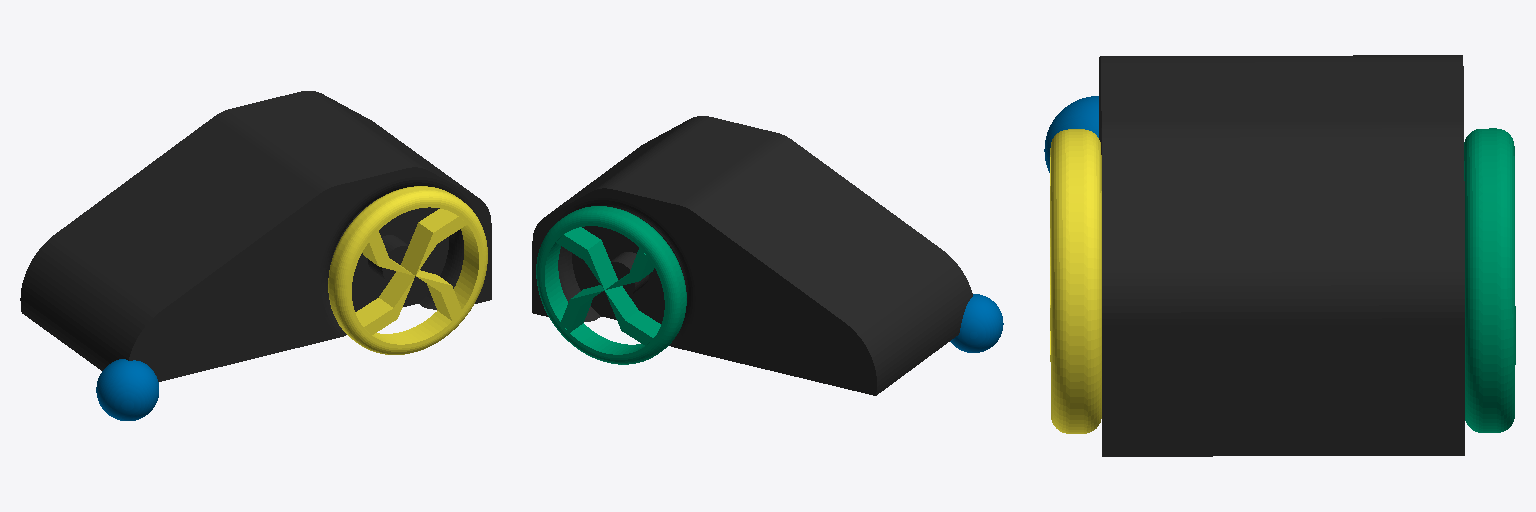
robot.urdf — maze_bot:
<?xml version="1.0"?>
<robot name="maze_bot">

    <material name="gray">
        <color rgba=".2 0.2 0.2 1.0" />
    </material>
    <material name="white">
        <color rgba="1.0 1.0 1.0 1.0" />
    </material>

    <link name="base_footprint" />

    <link name="base">
        <inertial>
            <mass value="5" />
            <origin xyz="0.0 0.0 0.0" rpy="0.0 0.0 0.0" />
            <inertia ixx="0.004" ixy="0.001" ixz="0" iyy="0.006" iyz="0" izz="0.007" />
        </inertial>

        <visual>
            <geometry>
                <mesh filename="package://ros2_path_planning/meshes/base.stl" />
            </geometry>
            <material name="gray" />
        </visual>

        <collision>
            <geometry>
                <mesh filename="package://ros2_path_planning/meshes/base.stl" />
            </geometry>
            <contact_coefficients mu="0" kp="1000.0" kd="1.0" />
        </collision>
    </link>

    <joint name="base_joint" type="fixed">
        <parent link="base_footprint" />
        <child link="base" />
        <origin xyz="0.0 0.0 0.0" rpy="0.0 0.0 0.005" />
    </joint>

    <link name="right_wheel">
        <inertial>
            <mass value="1" />
            <inertia ixx="100" ixy="0" ixz="100" iyy="100" iyz="0" izz="100" />
        </inertial>

        <visual>
            <geometry>
                <mesh filename="package://ros2_path_planning/meshes/Wheel_R.stl" />
                <material name="white" />
            </geometry>
        </visual>

        <collision>
            <geometry>
                <mesh filename="package://ros2_path_planning/meshes/Wheel_R.stl" />
            </geometry>
            <contact_coefficients mu="0" kp="1000.0" kd="1.0" />
        </collision>
    </link>

    <joint name="wheel_right_joint" type="continuous">
        <origin xyz="0.0 0.0 0.0" rpy="0.0 0.0 0.0" />
        <parent link="base" />
        <child link="right_wheel" />
        <axis xyz="0.0 1.0 0.0" />
    </joint>

    <link name="left_wheel">
        <inertial>
            <mass value="1" />
            <inertia ixx="100" ixy="0" ixz="100" iyy="100" iyz="0" izz="100" />
        </inertial>

        <visual>
            <geometry>
                <mesh filename="package://ros2_path_planning/meshes/Wheel_L.stl" />
                <material name="white" />
            </geometry>
        </visual>

        <collision>
            <geometry>
                <mesh filename="package://ros2_path_planning/meshes/Wheel_L.stl" />
            </geometry>
            <contact_coefficients mu="0" kp="1000.0" kd="1.0" />
        </collision>
    </link>

    <joint name="wheel_left_joint" type="continuous">
        <origin xyz="0.0 0.0 0.0" rpy="0.0 0.0 0.0" />
        <parent link="base" />
        <child link="left_wheel" />
        <axis xyz="0.0 1.0 0.0" />
    </joint>

    <link name="caster">
        <inertial>
            <mass value="1" />
            <inertia ixx="100" ixy="0" ixz="100" iyy="100" iyz="0" izz="100" />
        </inertial>

        <visual>
            <geometry>
                <mesh filename="package://ros2_path_planning/meshes/Caster.stl" />
                <material name="white" />
            </geometry>
        </visual>

        <collision>
            <origin xyz="0.0 0.0 0.0" rpy="0.0 0.0 0.0" />
            <geometry>
                <mesh filename="package://ros2_path_planning/meshes/Caster.stl" />
            </geometry>
            <contact_coefficients mu="0" kp="1000.0" kd="1.0" />
        </collision>
    </link>

    <joint name="caster_joint" type="continuous">
        <origin xyz="0.0 0.0 0.0" rpy="0.0 0.0 0.0" />
        <parent link="base" />
        <child link="caster" />
        <axis xyz="0.0 0.0 1.0" />
    </joint>

</robot>

--- Render facts (derived) ---
3 views of the same robot in one strip: view 1: azimuth 30°, elevation 25°; view 2: azimuth 150°, elevation 25°; view 3: azimuth 270°, elevation 25° (orthographic).
Model maze_bot with 5 links and 4 joints (3 continuous, 1 fixed), rooted at base_footprint, posed every joint at zero.
Links seen in each view (by area): view 1: base, left_wheel, caster; view 2: base, right_wheel, caster; view 3: base, left_wheel, right_wheel, caster.
Boxes of the visible links, x1=… form: base: x1=20, y1=91, x2=491, y2=381; left_wheel: x1=328, y1=186, x2=487, y2=354; caster: x1=96, y1=359, x2=158, y2=420; base: x1=532, y1=116, x2=972, y2=395; right_wheel: x1=536, y1=206, x2=686, y2=364; caster: x1=950, y1=294, x2=1003, y2=352; base: x1=1099, y1=55, x2=1464, y2=456; left_wheel: x1=1050, y1=129, x2=1101, y2=433; right_wheel: x1=1464, y1=128, x2=1515, y2=432; caster: x1=1044, y1=96, x2=1098, y2=172.
Bounding box of the posed robot: 0.1075 × 0.065 × 0.0475 m (x, y, z).
Meshes: 4 distinct files referenced, 4 mesh visuals loaded (4 binary STL).